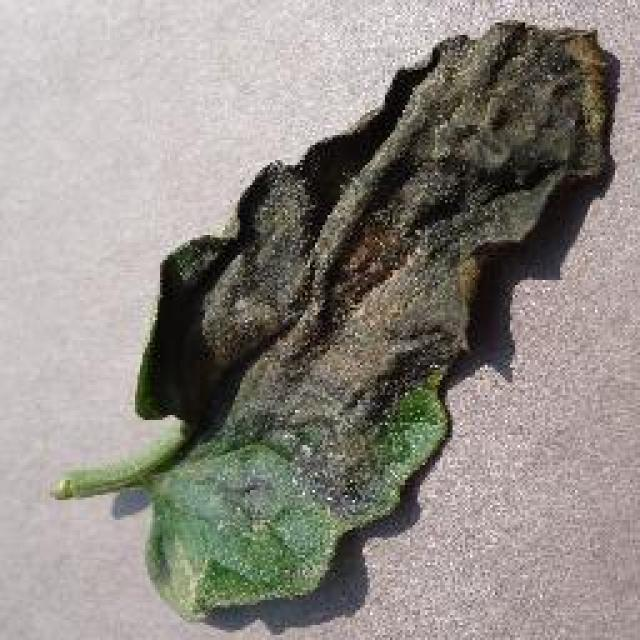Tomato late blight leaf: (58, 20, 612, 618)
